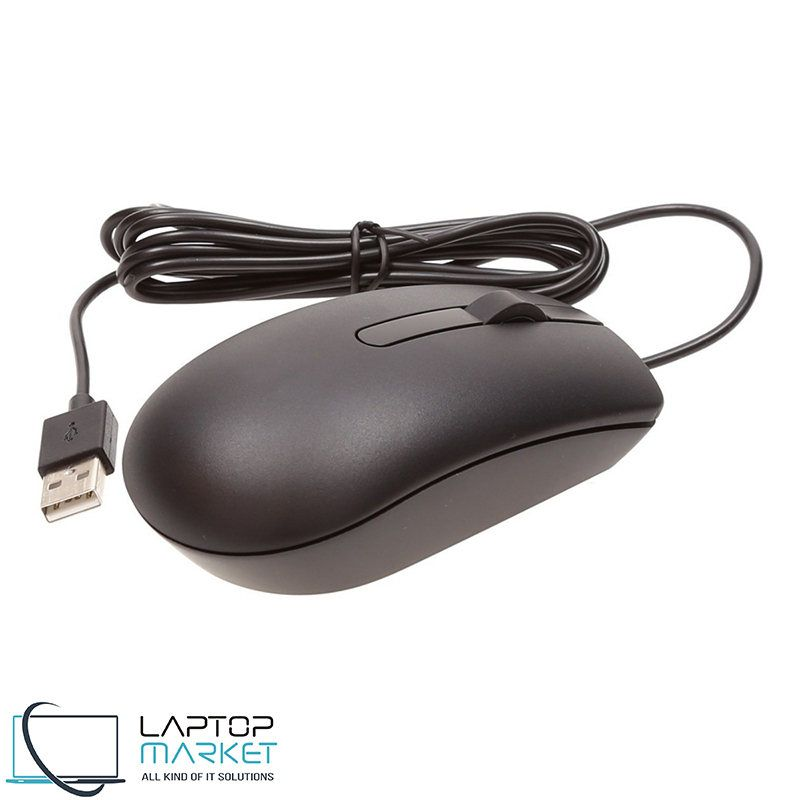dell-mouse-ms116: (30, 175, 782, 618)
